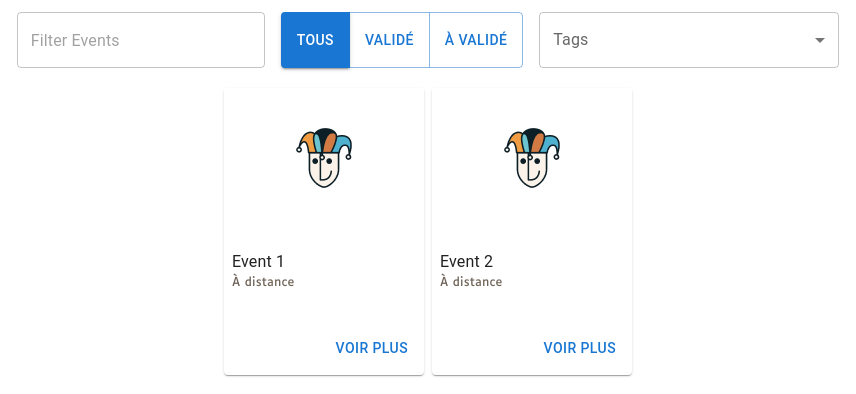
Test: Composant Filter › filtre les événements par texte
Check: the text "Event 1" is shown, box x1=232 y1=252 x2=285 y2=271
Type "Event 1" into the field with placeholder "Filter Events" at (141, 40), box x1=17 y1=12 x2=265 y2=68
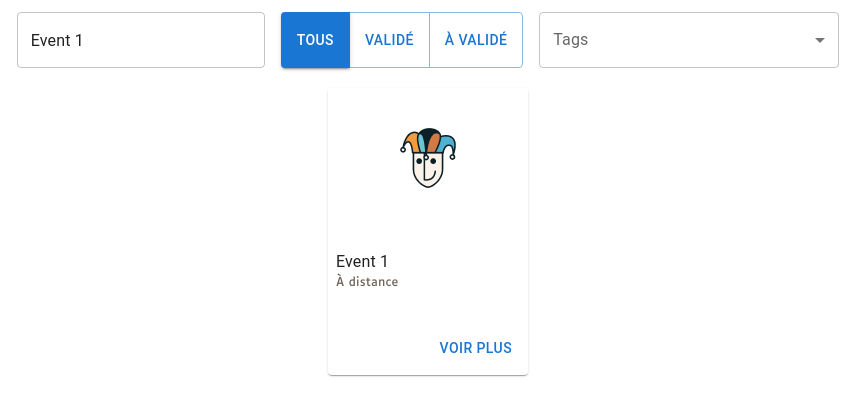
Check: the text "Event 1" is shown, box x1=336 y1=252 x2=389 y2=271
Check: the text "Event 2" is gone
